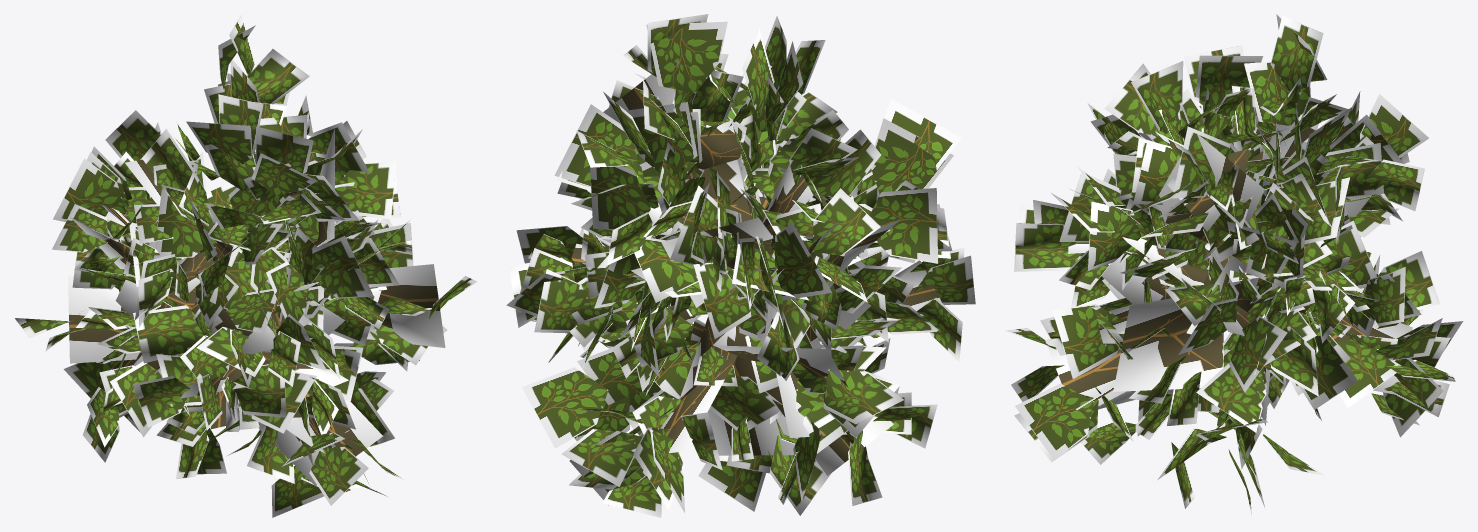
File: Bush_reduced 1.fbx
3 views of the same model, side by side, from view 1: azimuth 30°, elevation 25°; view 2: azimuth 150°, elevation 25°; view 3: azimuth 270°, elevation 25° (orthographic). The views are drawn at different scales.
Parts seen in each view (by area): view 1: BushReduced_LOD0; view 2: BushReduced_LOD0; view 3: BushReduced_LOD0.
Part boxes in pixels (box(x1,y1,x2,y2)): BushReduced_LOD0: box(15, 14, 477, 517); BushReduced_LOD0: box(506, 14, 975, 517); BushReduced_LOD0: box(1005, 14, 1463, 517).
Size of what is drawn, in the model's own units: 173 by 208 by 180.
